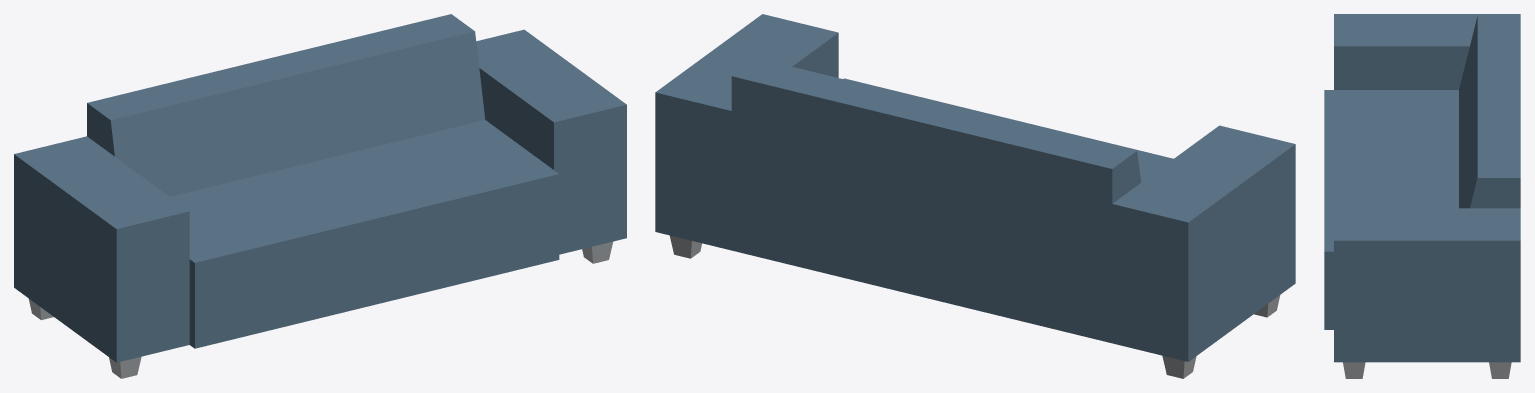
Rendered from sofa_modern.glb.
3 renders of one model, left to right at view 1: azimuth 30°, elevation 25°; view 2: azimuth 150°, elevation 25°; view 3: azimuth 270°, elevation 25°, orthographic. The views are drawn at different scales.
Visible parts, largest first — view 1: sofa_modern; view 2: sofa_modern; view 3: sofa_modern.
Boxes of the visible parts, box(x1,y1,x2,y2) form: sofa_modern: box(14, 14, 626, 378); sofa_modern: box(655, 14, 1295, 378); sofa_modern: box(1324, 14, 1520, 378).
Bounding box in the file's own units: 2.24 × 0.8 × 0.82.
